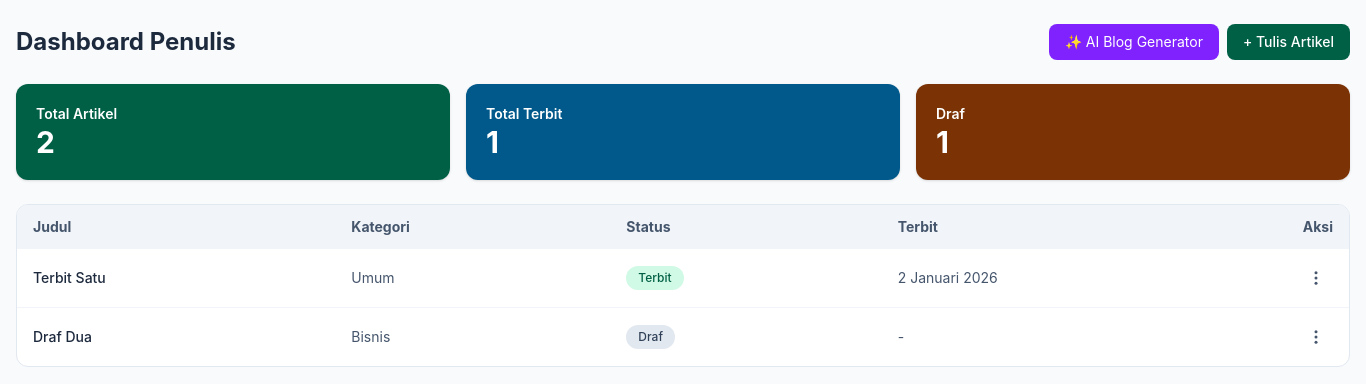
Test case: AuthorDashboardPage › toggle publikasi: terbitkan, kembalikan ke draf, dan gagal
Expected: the text "Terbit Satu" is shown, [17,249,335,308]
Click the switch named "Status publikasi: Draf Dua" at (651, 337), box [626,325,675,349]
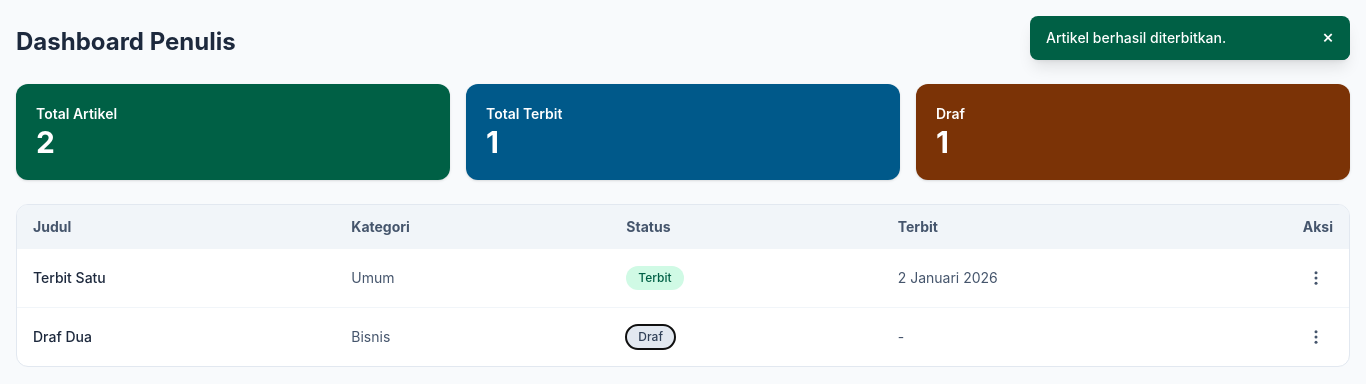
Now the text "Artikel berhasil diterbitkan." is shown, box [1046,28,1226,48]
Click the switch named "Status publikasi: Terbit Satu" at (655, 278), box [626,266,684,290]
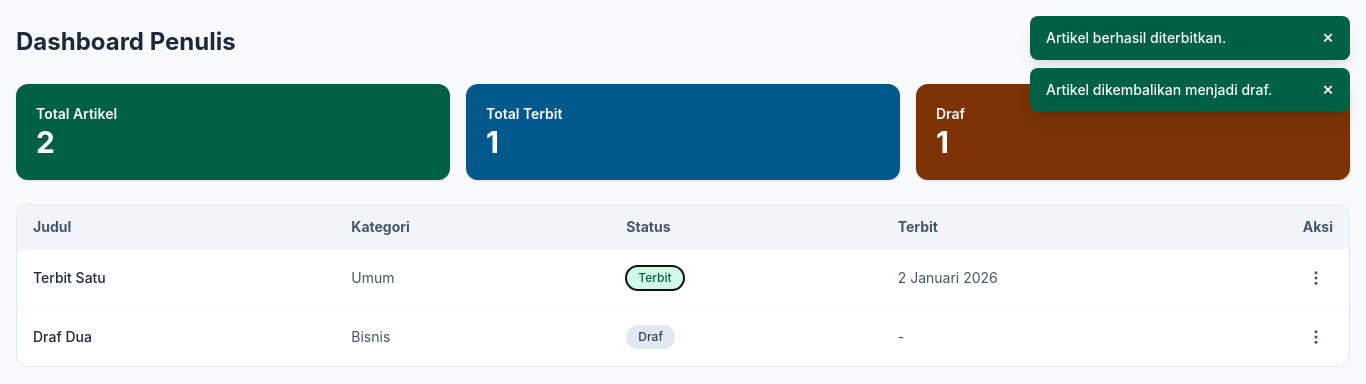
Now the text "Artikel dikembalikan menjadi draf." is shown, box [1046,80,1272,100]
Click the switch named "Status publikasi: Terbit Satu" at (655, 278), box [626,266,684,290]
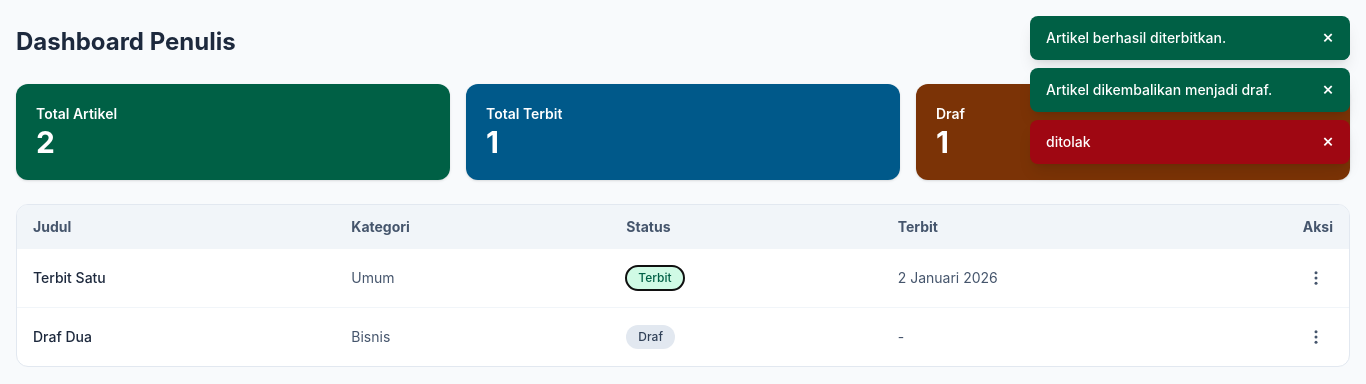
Now the text "ditolak" is shown, box [1046,132,1091,152]
Click the switch named "Status publikasi: Terbit Satu" at (655, 278), box [626,266,684,290]
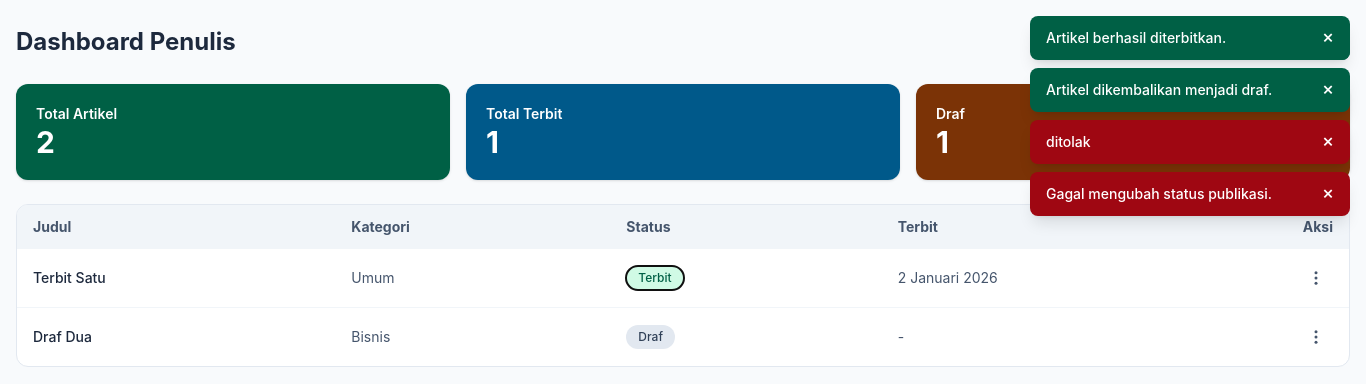
Now the text "Gagal mengubah status publikasi." is shown, box [1046,184,1272,204]
